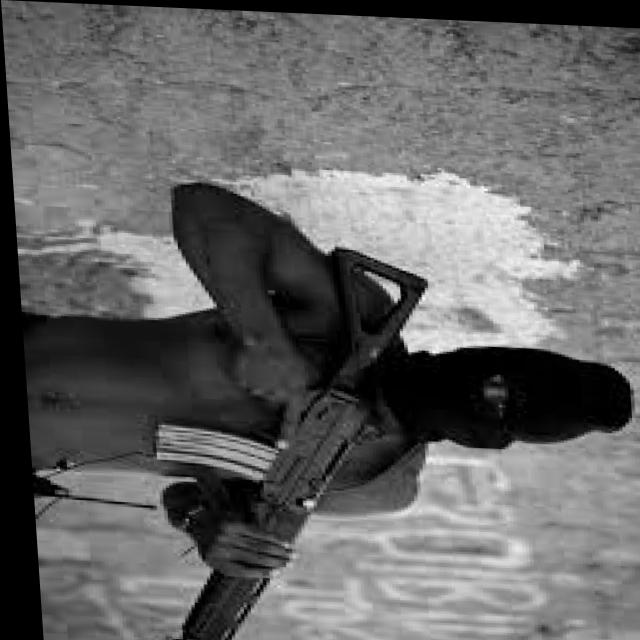rifle: (130, 235, 442, 640)
